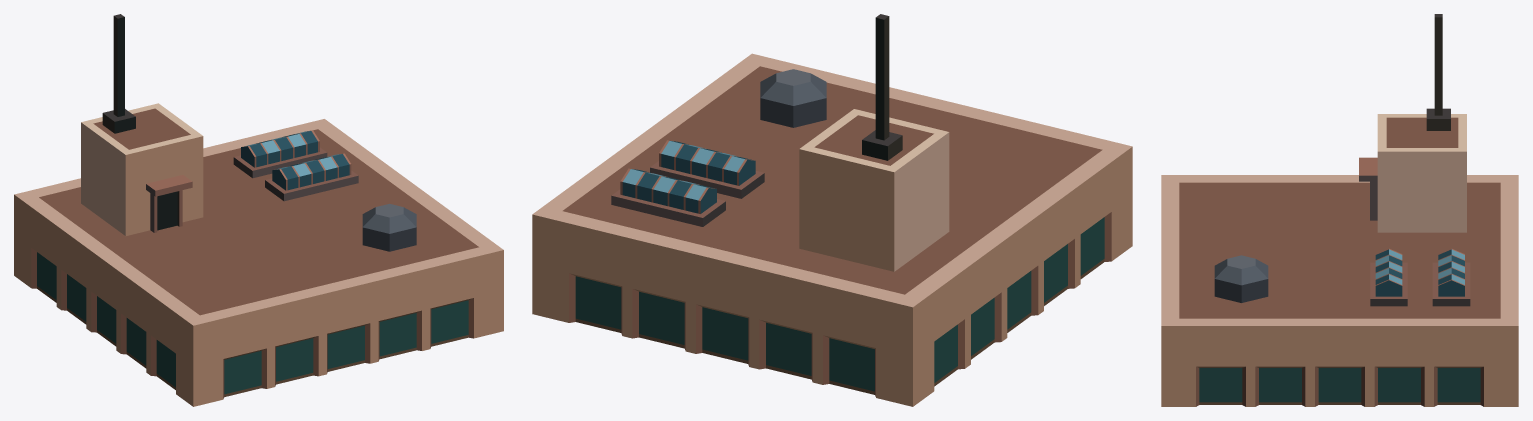
The model's file is TB_CITY_Skysc_M_Top_Brown.FBX.
3 renders of one model, left to right at view 1: azimuth 30°, elevation 25°; view 2: azimuth 150°, elevation 25°; view 3: azimuth 270°, elevation 25°, orthographic. The views are drawn at different scales.
Visible parts, largest first — view 1: TB_CITY_Skysc_M_Top_Brown; view 2: TB_CITY_Skysc_M_Top_Brown; view 3: TB_CITY_Skysc_M_Top_Brown.
Part boxes in pixels (x1=…): TB_CITY_Skysc_M_Top_Brown: x1=14, y1=14, x2=503, y2=406; TB_CITY_Skysc_M_Top_Brown: x1=532, y1=14, x2=1132, y2=406; TB_CITY_Skysc_M_Top_Brown: x1=1161, y1=14, x2=1518, y2=406.
Size of the model in its own units: 20 by 16.8 by 20.
